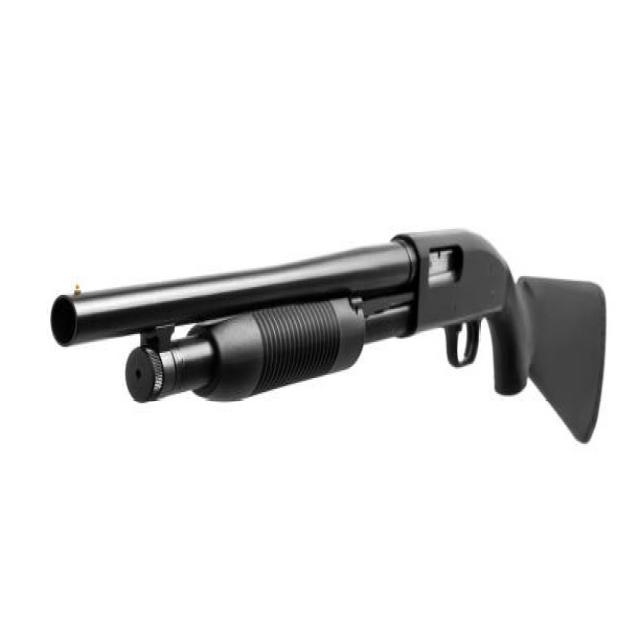rifle: (48, 224, 614, 470)
